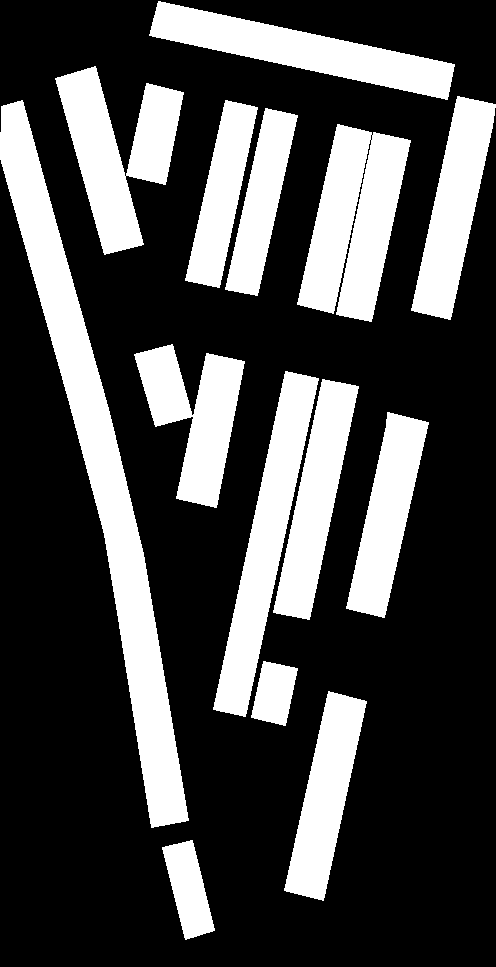parkingspot: (0, 100, 188, 827), (213, 371, 318, 716), (149, 1, 454, 99), (273, 379, 358, 619), (411, 96, 495, 319), (284, 691, 366, 900), (346, 412, 428, 617), (55, 66, 143, 254), (297, 124, 371, 313), (336, 132, 410, 321), (185, 100, 257, 287), (225, 108, 297, 295), (176, 353, 244, 507), (126, 83, 183, 184), (162, 840, 214, 939), (134, 344, 192, 426), (251, 661, 297, 725)
